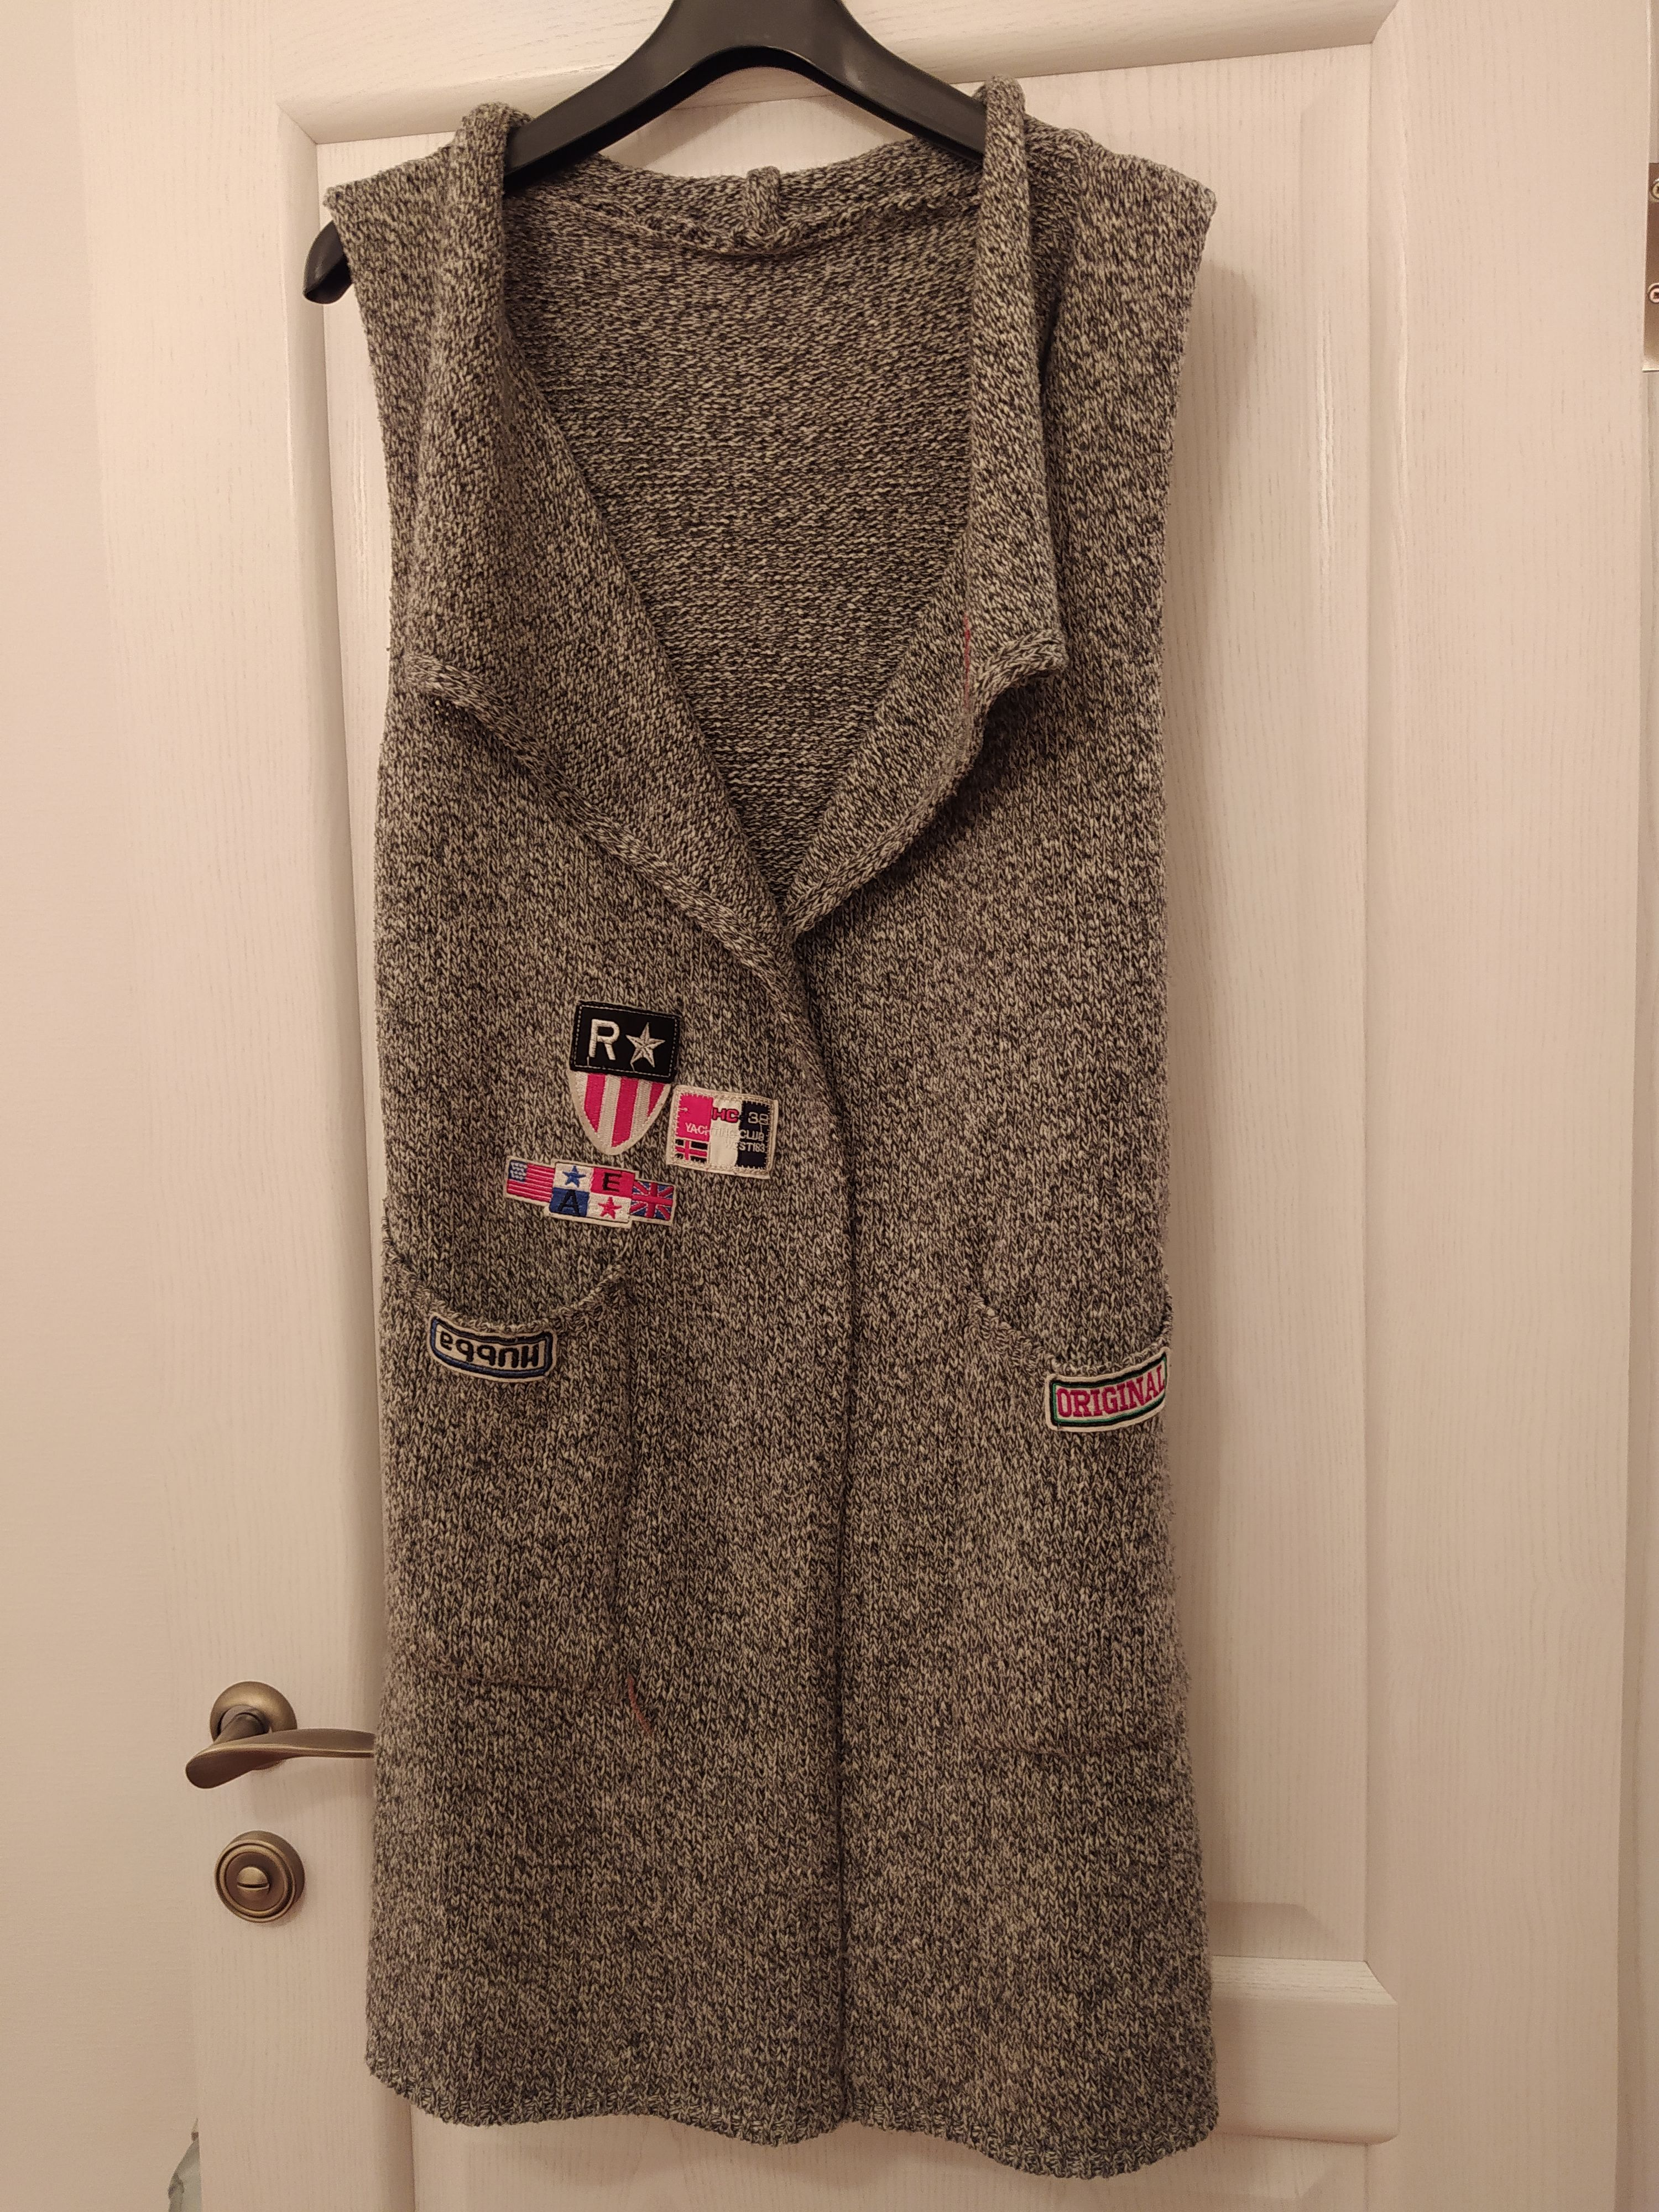clothes: (296, 89, 1251, 2174)
